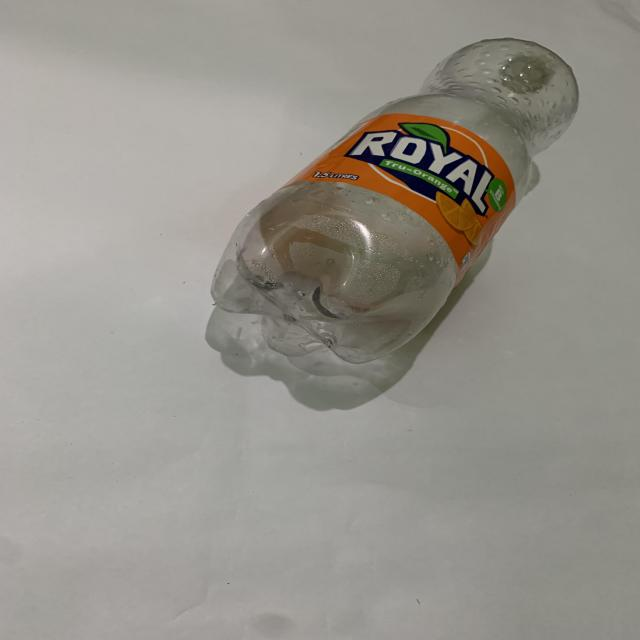bottle: (221, 30, 569, 372)
